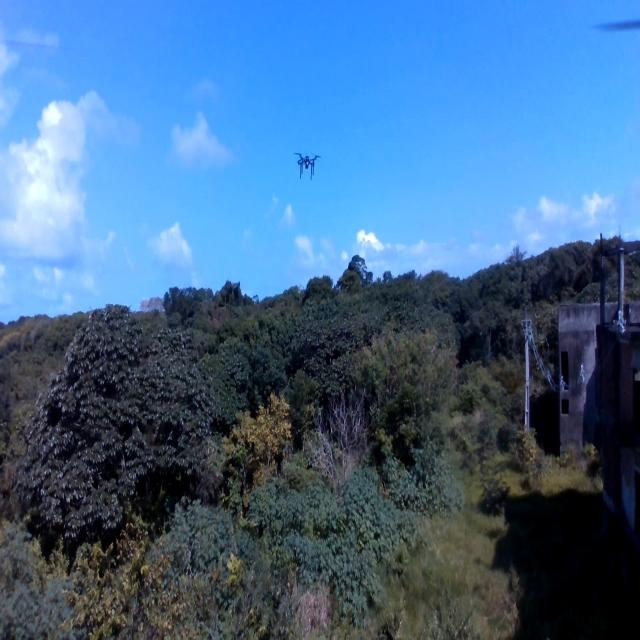-uav-: (293, 138, 322, 188)
